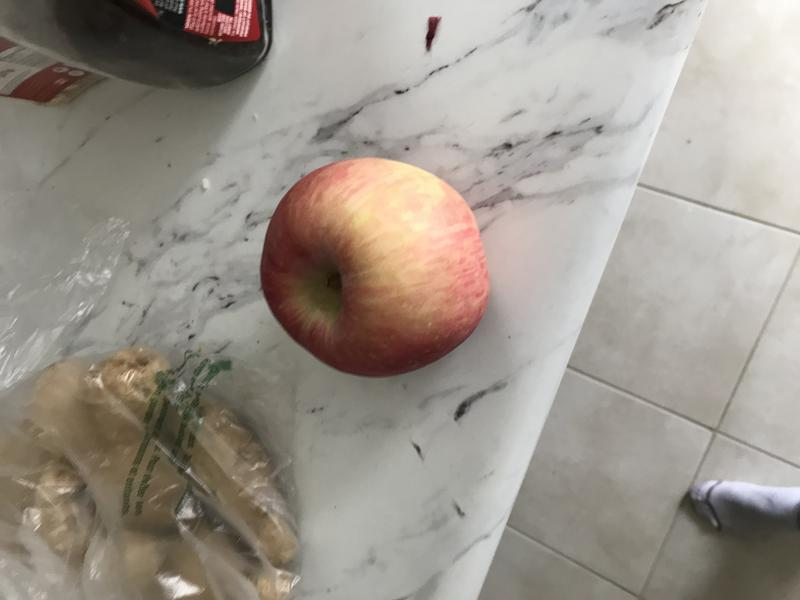red_apple: (255, 147, 500, 382)
